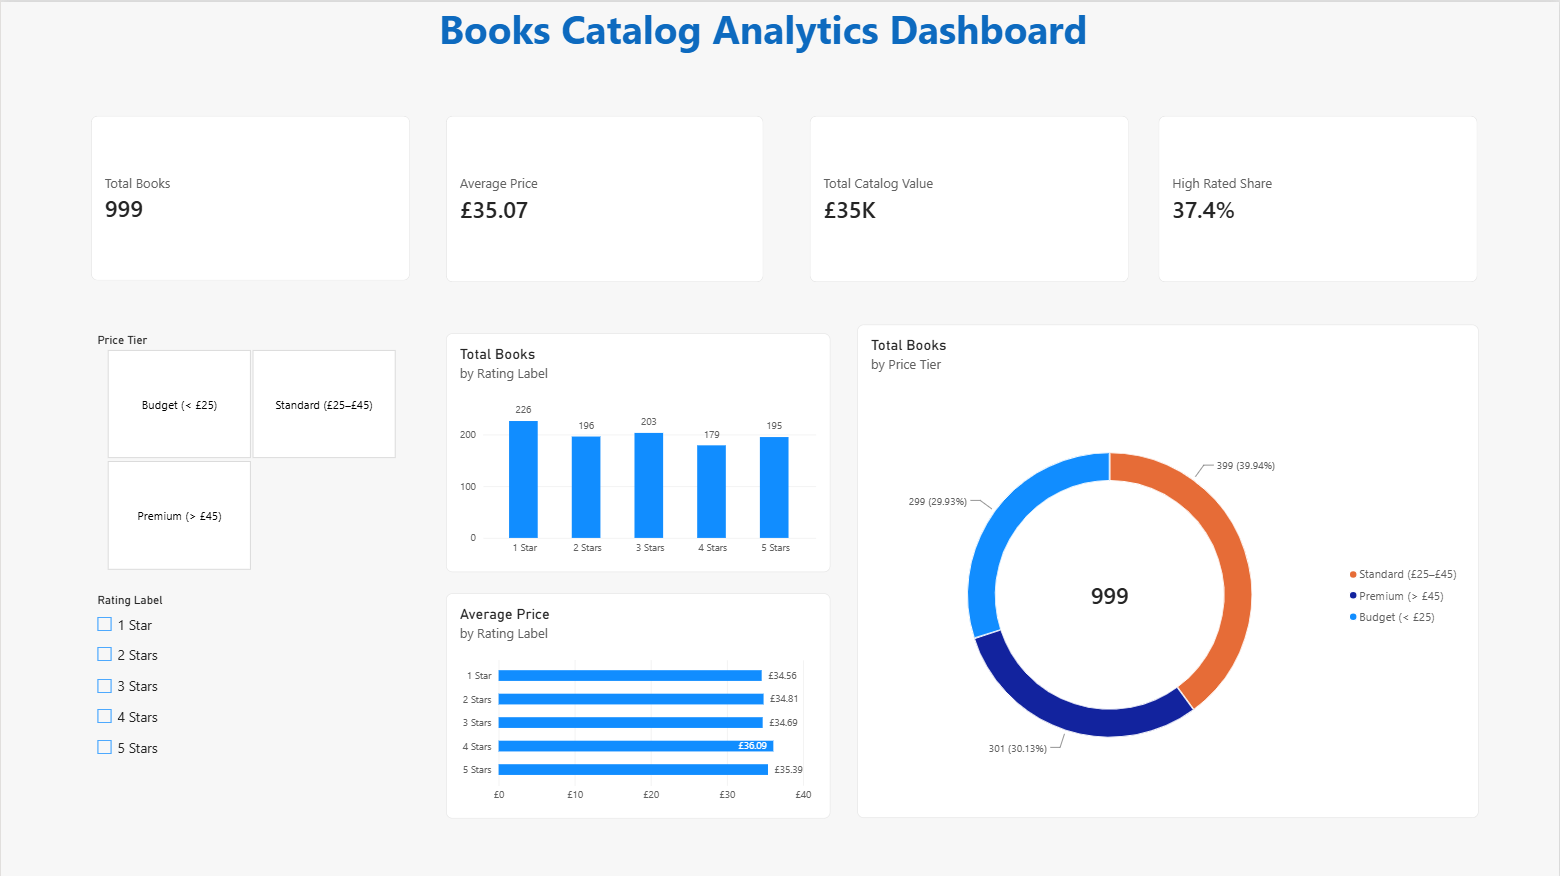

The page's visual inventory and layout, read from the dashboard file:
{"tool":"powerbi","page":{"name":"Page 1","canvas":[1920,1080],"ordinal":0},"visuals":[{"type":"textbox","box":[10.3,0,1856.6,121.4],"z":0},{"type":"cardVisual","fields":{"Data":["books_data.Total Books"]},"box":[111.1,140,393.1,203.8],"z":1000},{"type":"cardVisual","fields":{"Data":["books_data.Average Price"]},"box":[547.5,140,391.1,205.8],"z":2000},{"type":"cardVisual","fields":{"Data":["books_data.Total Catalog Value"]},"box":[996.2,140,393.1,205.8],"z":3000},{"type":"cardVisual","fields":{"Data":["books_data.High Rated Share"]},"box":[1426.4,140,393.1,205.8],"z":4000},{"type":"slicer","fields":{"Values":["books_data.Price Tier"]},"box":[111.6,408.1,394.2,293],"z":5000},{"type":"slicer","fields":{"Values":["books_data.Rating Label"]},"box":[111.6,729.1,393.6,278.5],"z":6000},{"type":"clusteredColumnChart","fields":{"Category":["books_data.Rating Label"],"Y":["books_data.Total Books"]},"box":[548.2,408.1,473.4,294.3],"z":6001},{"type":"donutChart","fields":{"Category":["books_data.Price Tier"],"Y":["books_data.Total Books"]},"box":[1054.9,397.3,765.4,608.3],"z":6002},{"type":"clusteredBarChart","fields":{"Category":["books_data.Rating Label"],"Y":["books_data.Average Price"]},"box":[547.5,728.6,473.4,277.9],"z":6003}]}

Visuals, with their boxes in screenshot pixels (x1, y1, x2, y2), scaled from the page's 1920x1080 canvas onto the 1560x876 screenshot:
textbox: x1=8, y1=0, x2=1517, y2=98
cardVisual - books_data.Total Books: x1=90, y1=114, x2=410, y2=279
cardVisual - books_data.Average Price: x1=445, y1=114, x2=763, y2=280
cardVisual - books_data.Total Catalog Value: x1=809, y1=114, x2=1129, y2=280
cardVisual - books_data.High Rated Share: x1=1159, y1=114, x2=1478, y2=280
slicer - books_data.Price Tier: x1=91, y1=331, x2=411, y2=569
slicer - books_data.Rating Label: x1=91, y1=591, x2=410, y2=817
clusteredColumnChart - books_data.Rating Label x books_data.Total Books: x1=445, y1=331, x2=830, y2=570
donutChart - books_data.Price Tier x books_data.Total Books: x1=857, y1=322, x2=1479, y2=816
clusteredBarChart - books_data.Rating Label x books_data.Average Price: x1=445, y1=591, x2=829, y2=816
